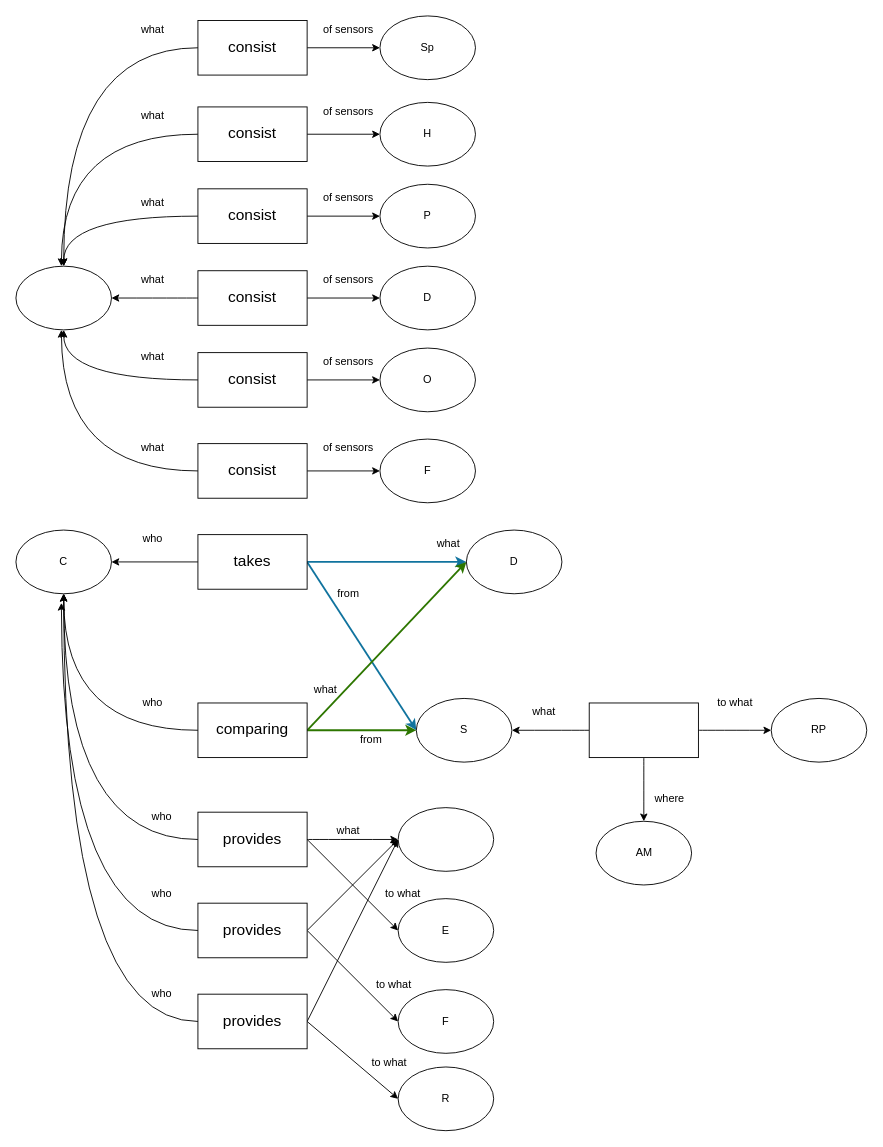
Some shapes in this 883 by 1147 pixel diagram are drawn without their labels. Here are the shapes that lost their labels. From the top down, the centre of each, then its label:
At point 63,297: "AFCS".
At point 643,730: "makes possible".
At point 445,839: "CS".
